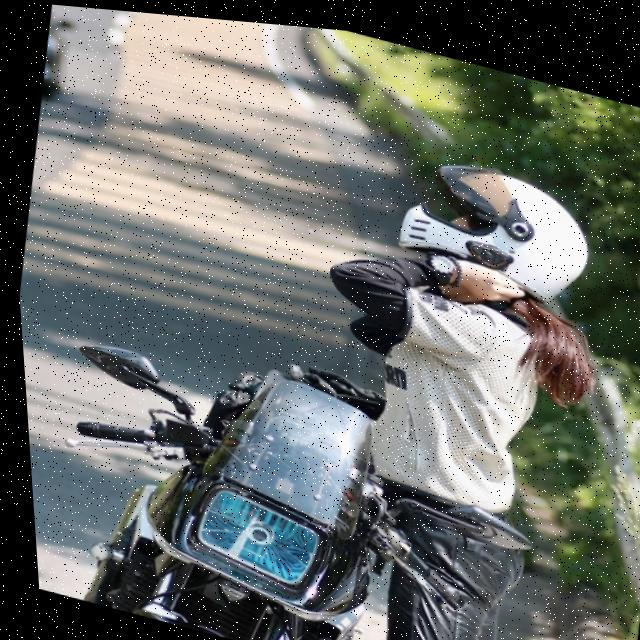helmet: (377, 129, 605, 311)
